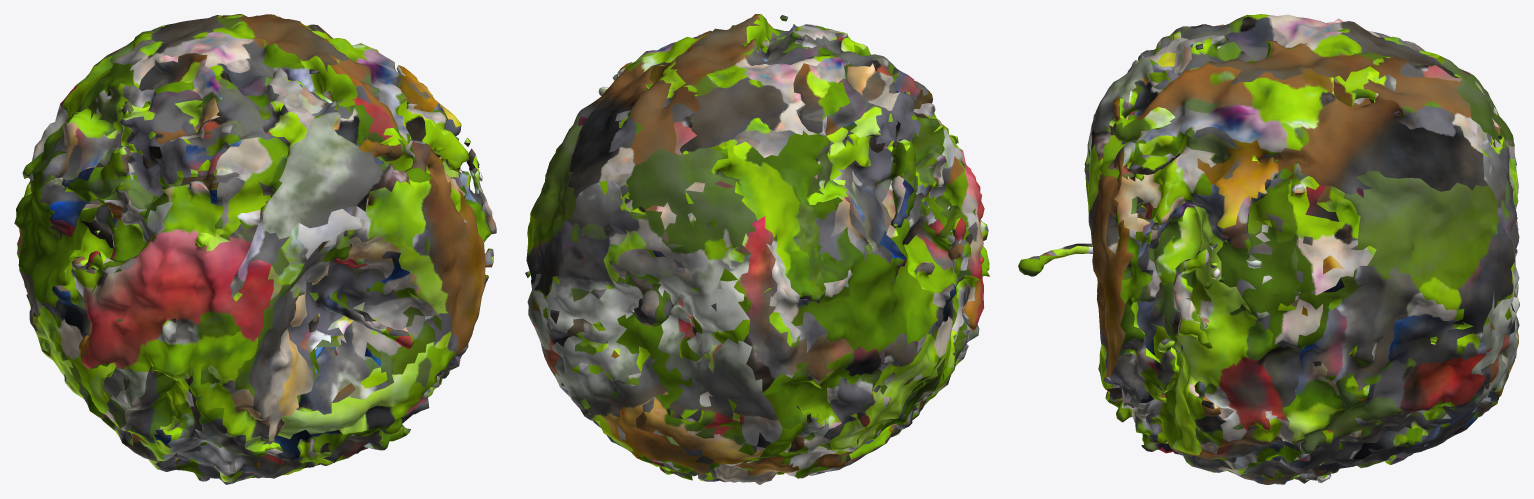
The model's file is red_apple.obj.
The picture shows the model from 3 angles, left to right: view 1: azimuth 30°, elevation 25°; view 2: azimuth 150°, elevation 25°; view 3: azimuth 270°, elevation 25°; orthographic projection. The views are drawn at different scales.
Parts seen in each view (by area): view 1: mesh; view 2: mesh; view 3: mesh.
Boxes of the visible parts, x1=… form: mesh: x1=14, y1=14, x2=496, y2=484; mesh: x1=525, y1=14, x2=989, y2=484; mesh: x1=1018, y1=14, x2=1519, y2=484.
Size of the model in its own units: 0.0837 by 0.0853 by 0.0897.
